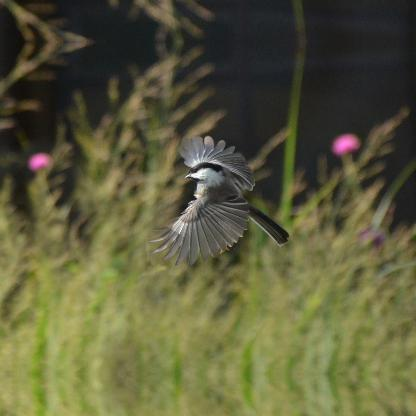Bird: (143, 134, 285, 262)
